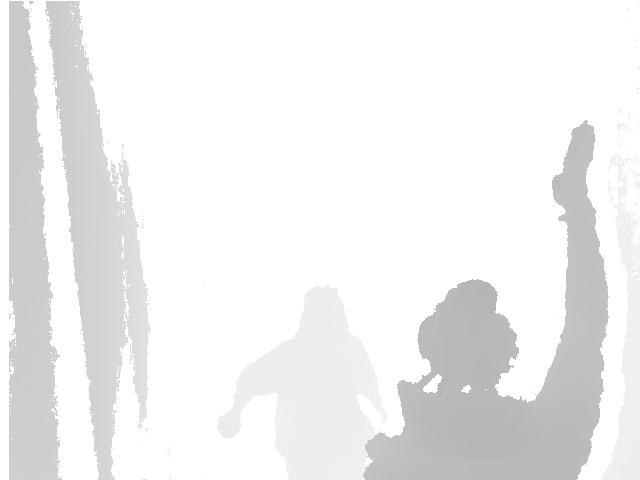hand: (550, 121, 596, 211)
head: (419, 281, 519, 396), (300, 287, 349, 336)
person: (361, 121, 610, 480), (215, 287, 388, 480)
